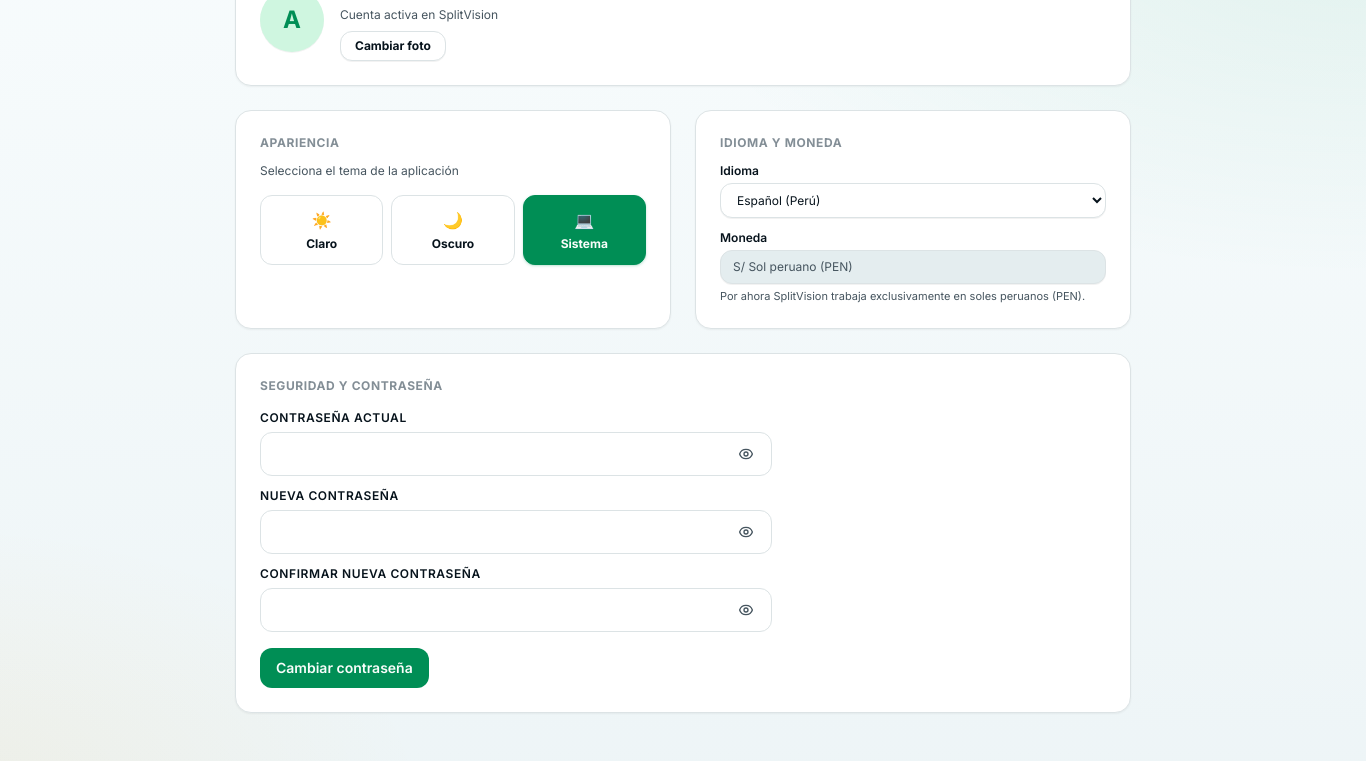
Test case: Configuracion › cambia contraseña con éxito
(page scrolled)
In the password field labelled "Contraseña actual": x=516, y=454 [260,432,772,476], type "vieja123"
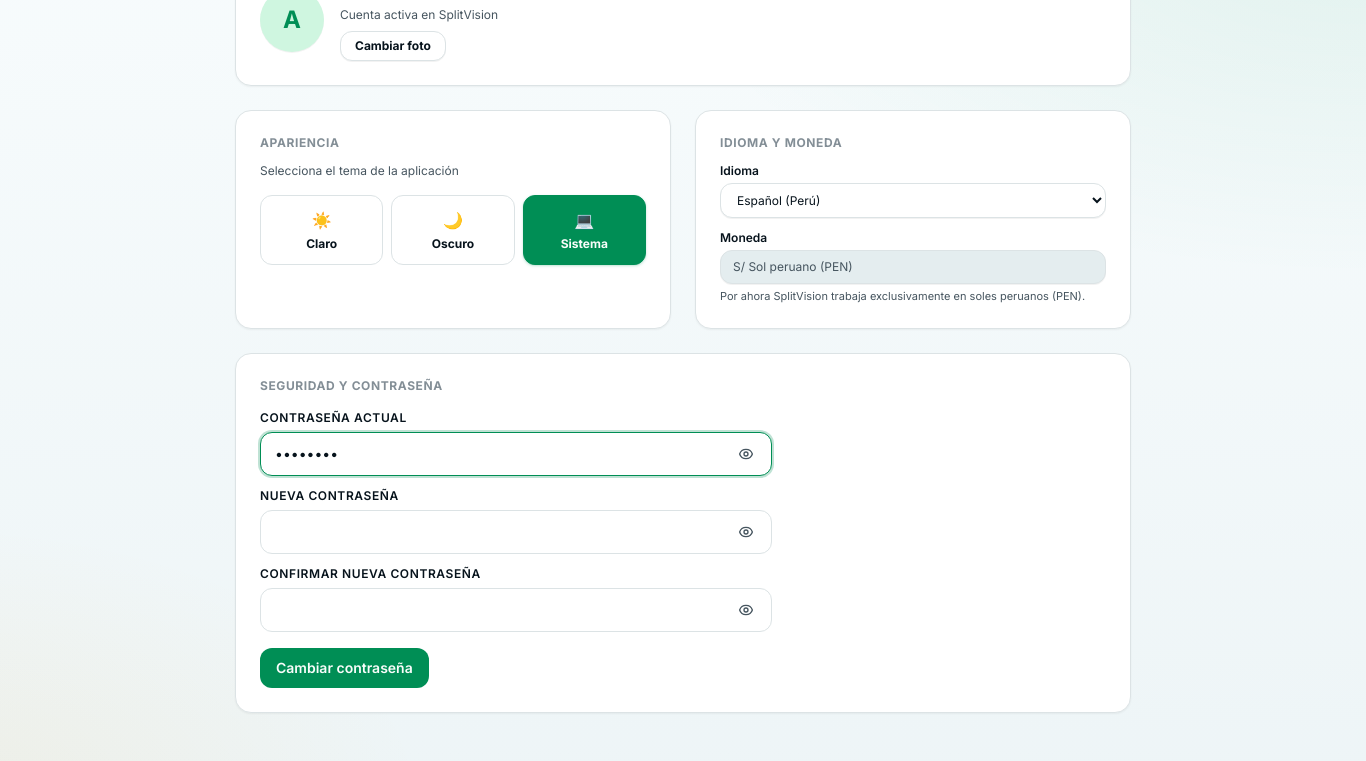
In the password field labelled "Nueva contraseña": x=516, y=532 [260,510,772,554], type "nueva123"
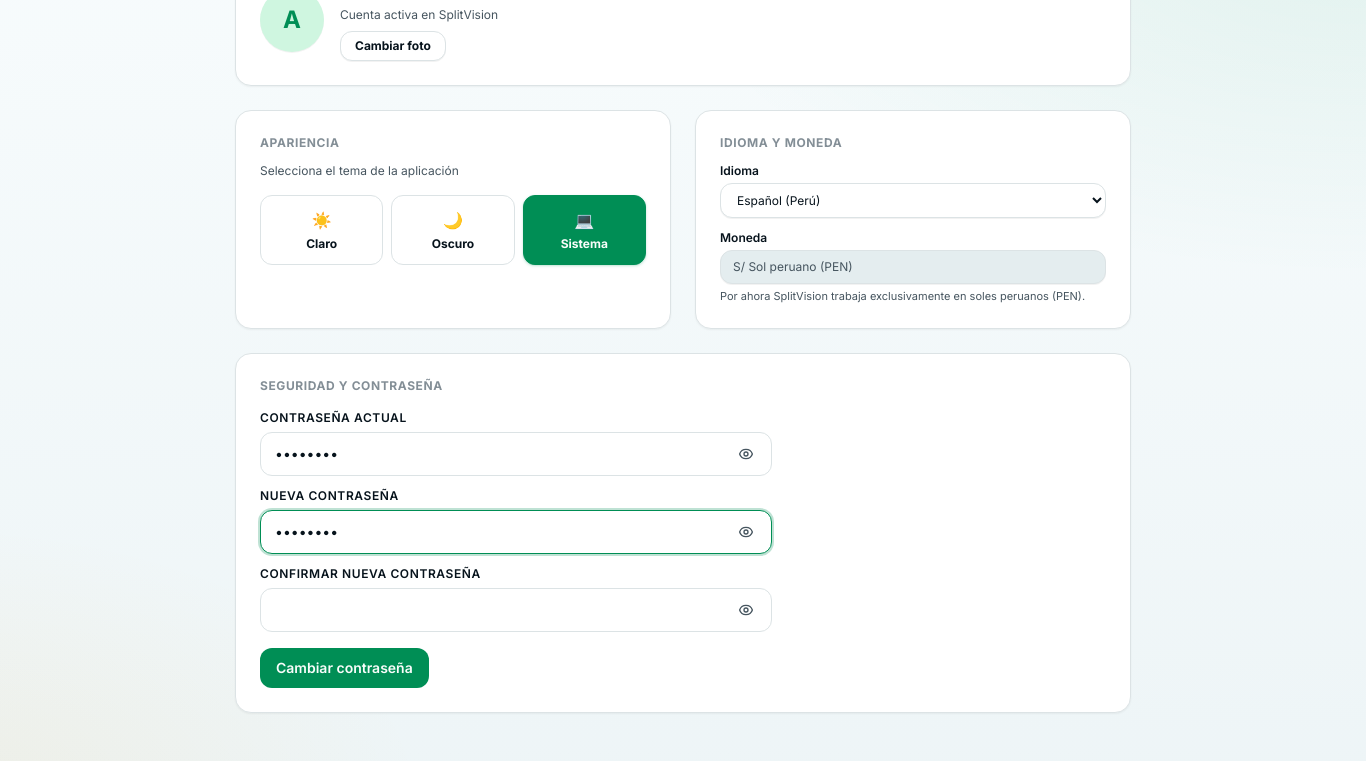
In the password field labelled "Confirmar nueva contraseña": x=516, y=610 [260,588,772,632], type "nueva123"
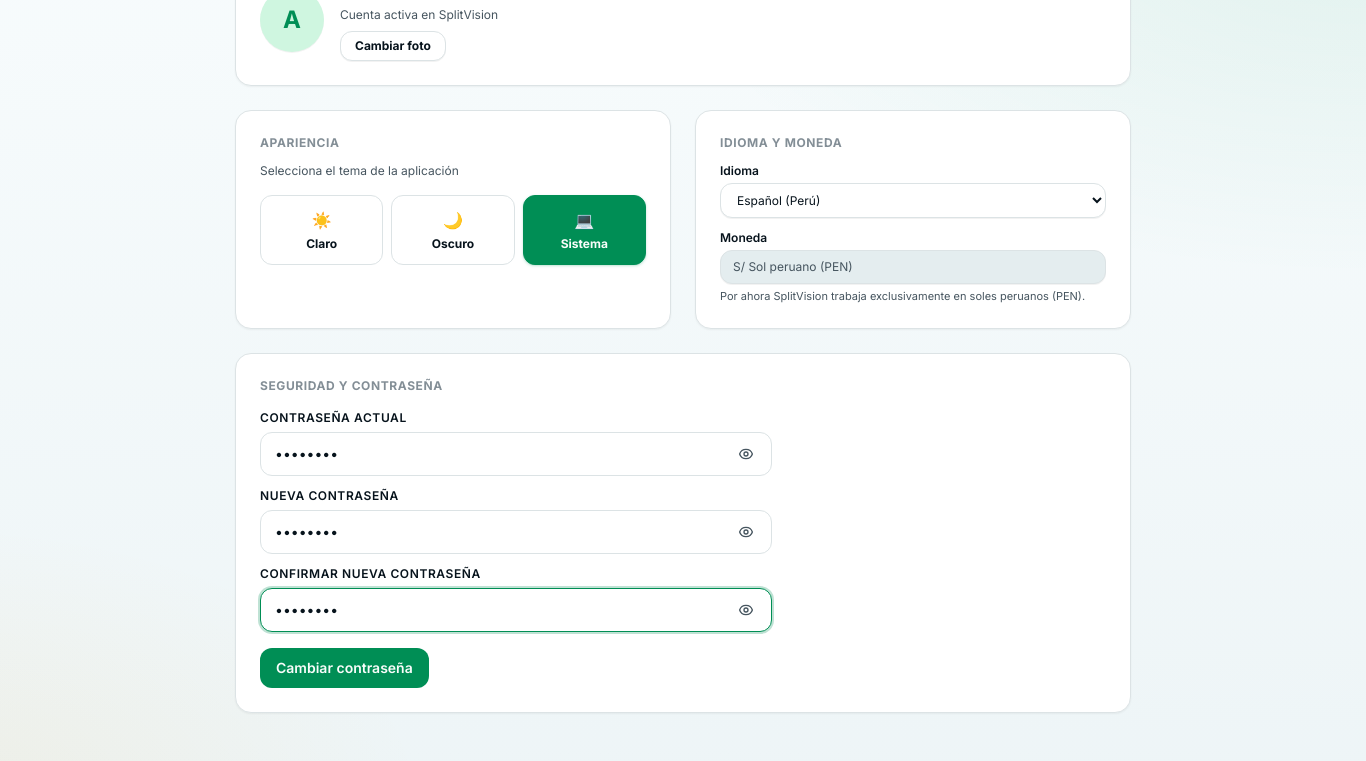
Click the button "Cambiar contraseña": x=344, y=668 [260,648,429,688]
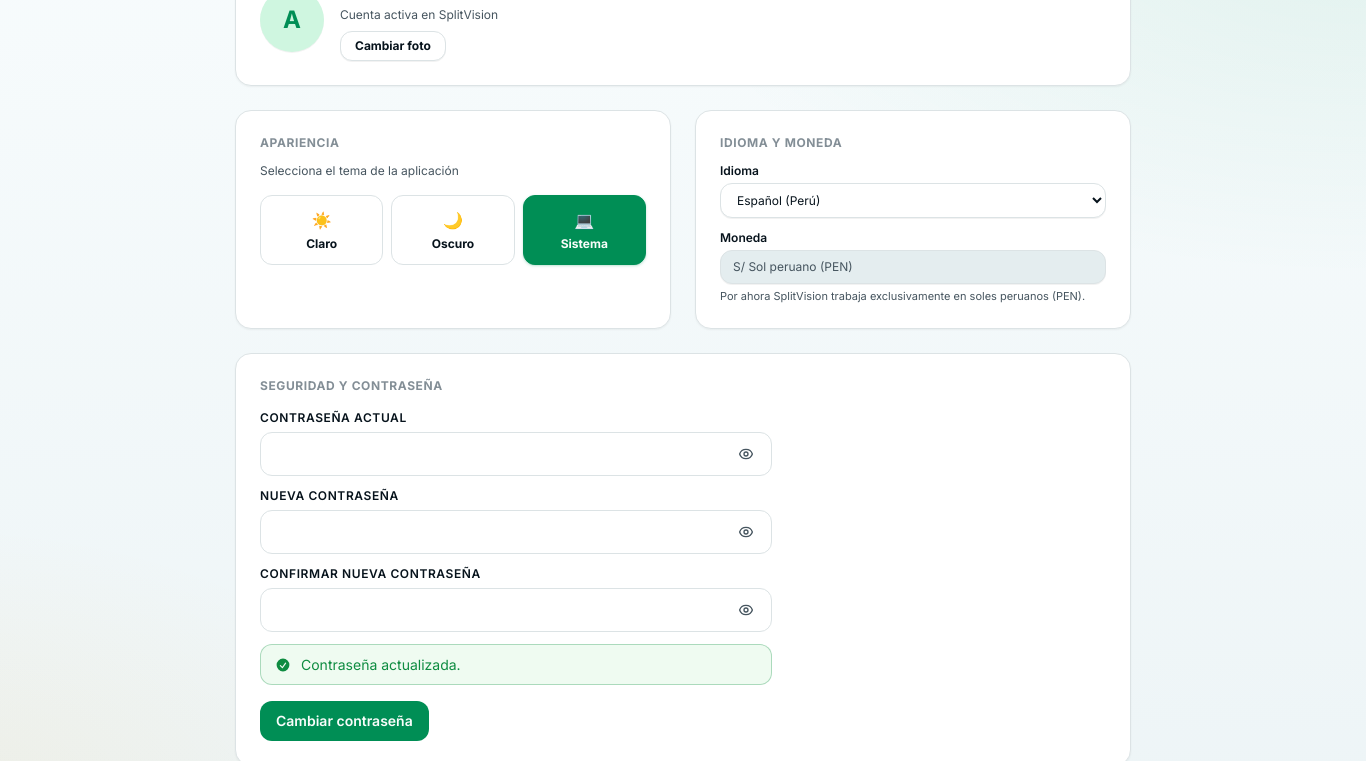
Check: the text "Contraseña actualizada." is shown, box [301,656,461,673]
